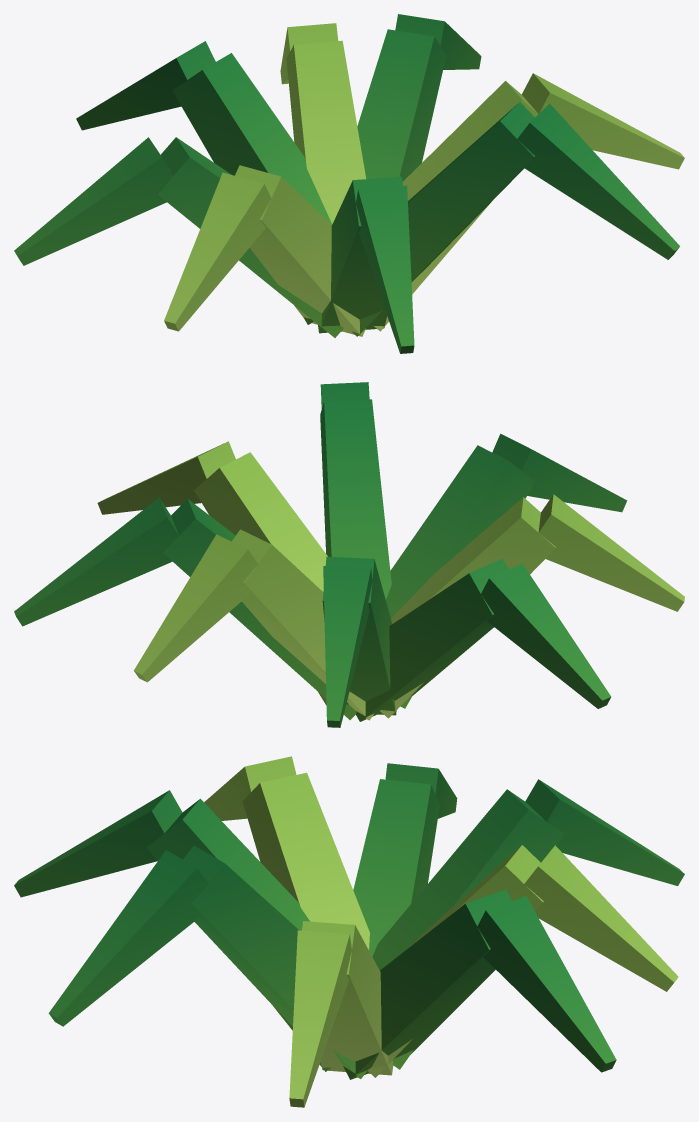
Rendered from fern.0a1cd29bef.gltf.
3 renders of one model, top to bottom at view 1: azimuth 30°, elevation 25°; view 2: azimuth 150°, elevation 25°; view 3: azimuth 270°, elevation 25°, orthographic. The views are drawn at different scales.
Parts seen in each view (by area): view 1: fern; view 2: fern; view 3: fern.
Boxes of the visible parts, box(x1,y1,x2,y2) form: fern: box(14, 14, 684, 353); fern: box(14, 382, 684, 727); fern: box(14, 756, 684, 1107).
Size of the model in its own units: 1.25 by 0.4887 by 1.14.
1 material, 1 textured.
